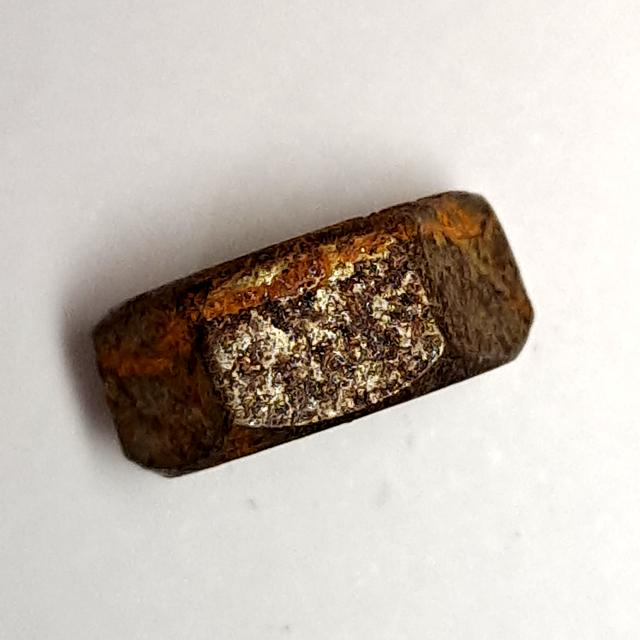Side_Rust: (77, 166, 553, 494)
